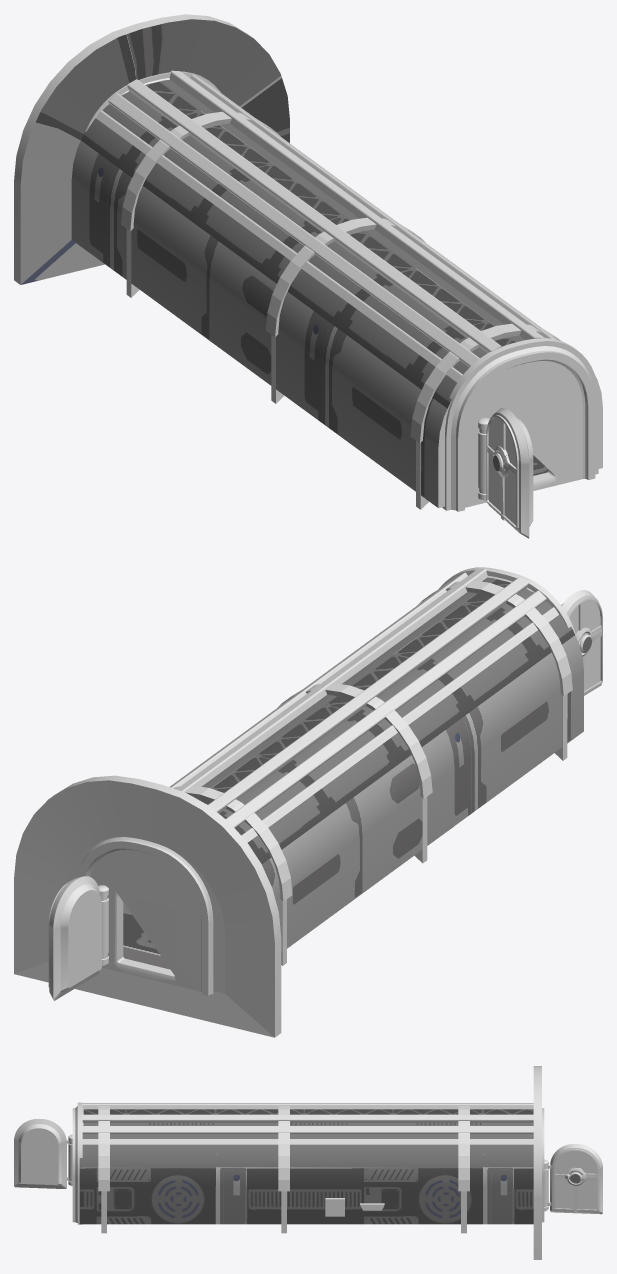
File: LivingRoom.fbx
The picture shows the model from 3 angles, top to bottom: view 1: azimuth 30°, elevation 25°; view 2: azimuth 150°, elevation 25°; view 3: azimuth 270°, elevation 25°; orthographic projection. The views are drawn at different scales.
Visible parts, largest first — view 1: Walls, TubesTop, Doorway, Archs, Door.001; view 2: Walls, TubesTop, Doorway.001, Archs, Door, Door.001, Doorway; view 3: Walls, TubesTop, Door, Door.001, Archs, Doorway, PCBlock, Doorway.001.
Boxes of the visible parts, x1,y1,x2,y2 form: Walls: (14,14,602,508); TubesTop: (96,70,556,382); Doorway: (442,338,598,511); Archs: (121,111,561,509); Door.001: (478,407,533,538); Walls: (14,577,583,1037); TubesTop: (170,569,558,842); Doorway.001: (77,837,213,995); Archs: (123,580,572,965); Door: (48,876,108,1000); Door.001: (561,590,602,695); Doorway: (439,567,576,636); Walls: (79,1066,541,1259); TubesTop: (82,1103,533,1144); Door: (544,1144,602,1214); Door.001: (14,1118,72,1188); Archs: (98,1106,469,1233); Doorway: (72,1102,83,1224); PCBlock: (325,1198,344,1216); Doorway.001: (533,1108,544,1222).
Bounding box in the file's own units: 408 × 327 × 1241.
